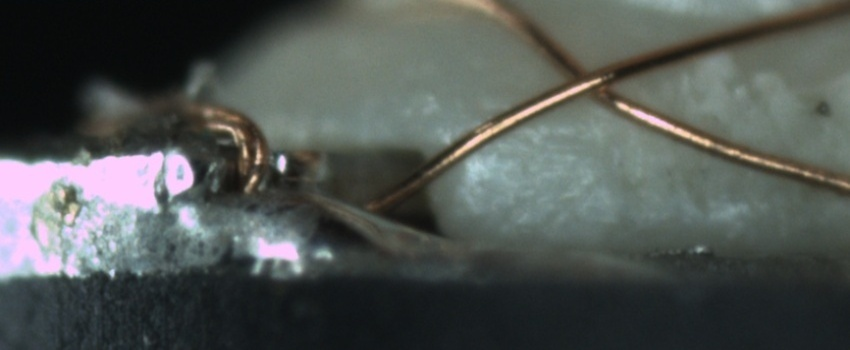CL: (538, 46, 633, 110)
DL: (463, 113, 611, 181)
TE: (170, 93, 278, 198)
